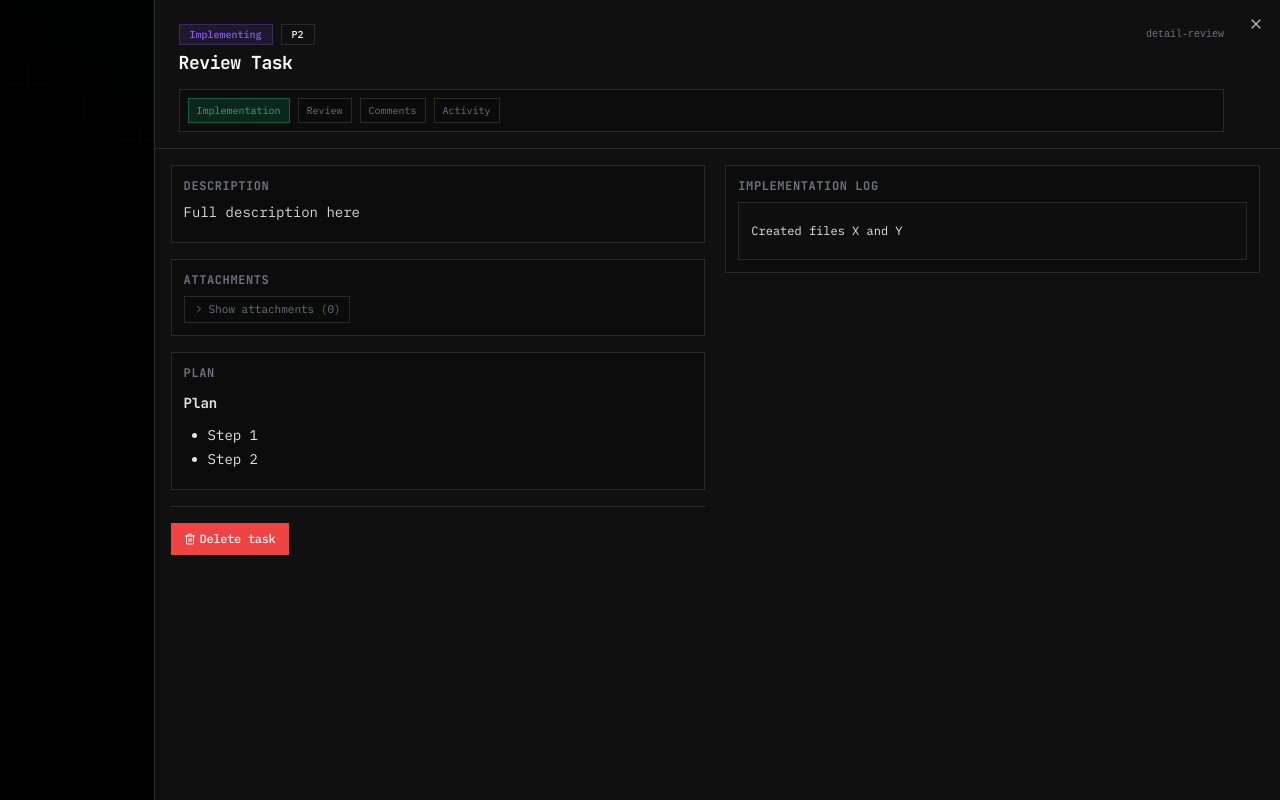
it: TaskDetail › should render review comments in review tab
Click the button "Review" at (325, 110), box [298,98,352,123]
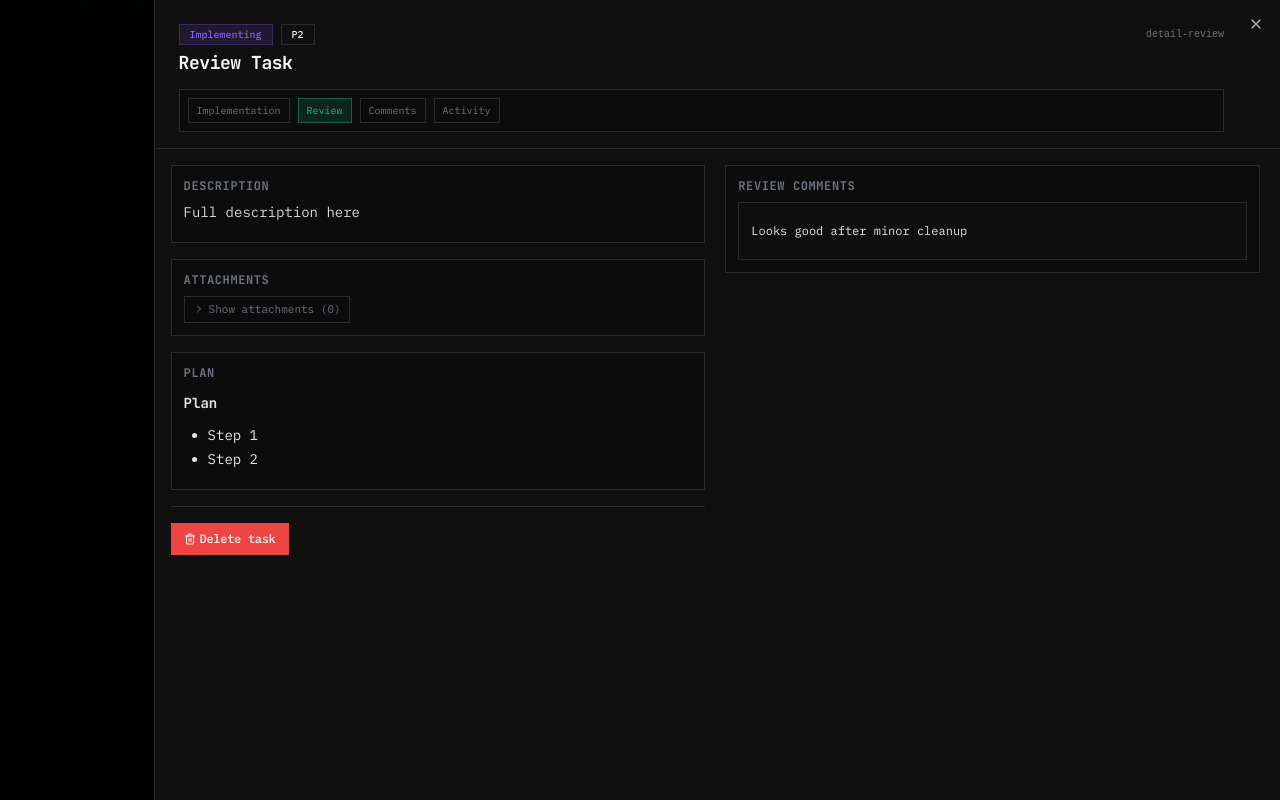
Expected: the text "Looks good after minor cleanup" is shown, [751,223,967,238]
